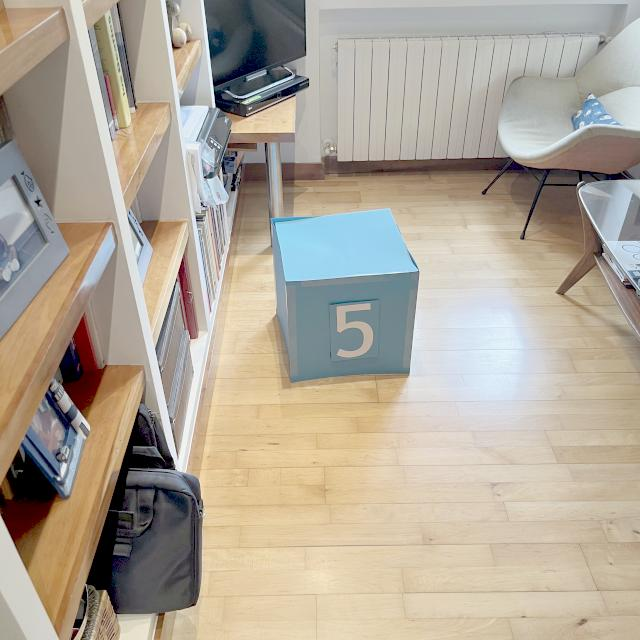box: (266, 204, 422, 384)
